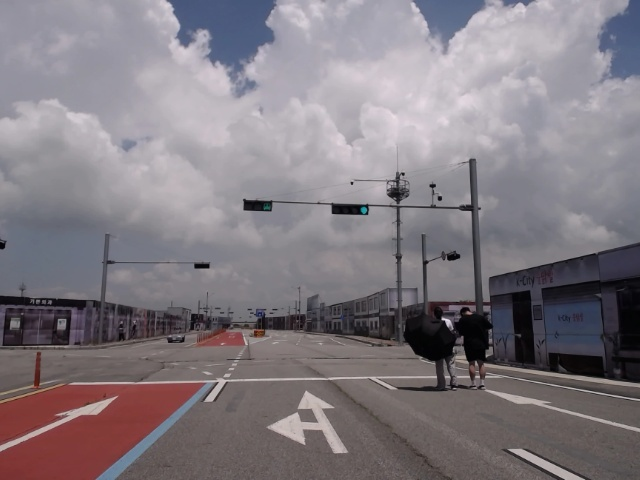straight_green_4: (333, 204, 368, 217)
